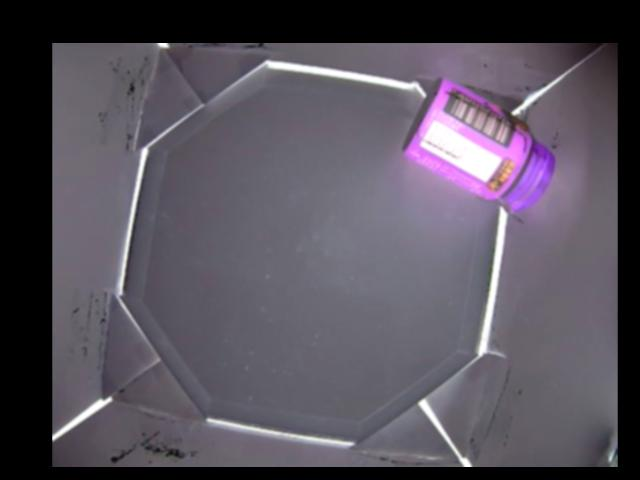Bottle: (398, 74, 556, 213)
